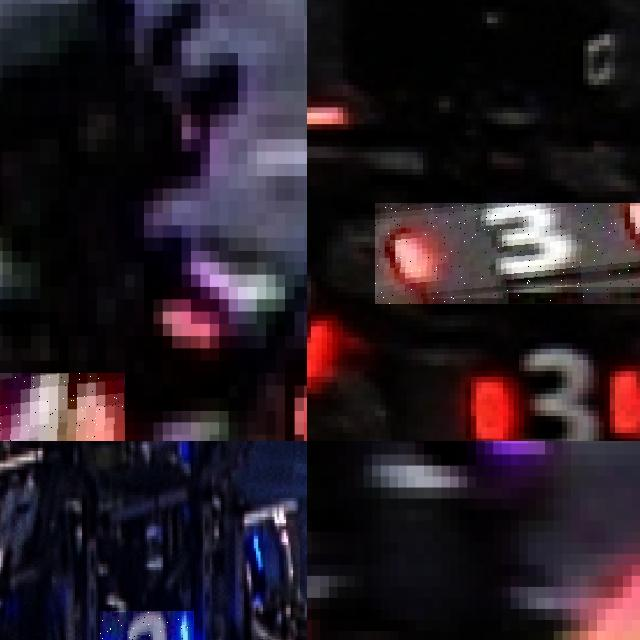B2: (100, 611, 193, 640)
R3: (375, 203, 640, 304), (460, 332, 640, 441), (307, 258, 348, 410)
R4: (0, 373, 125, 441)
